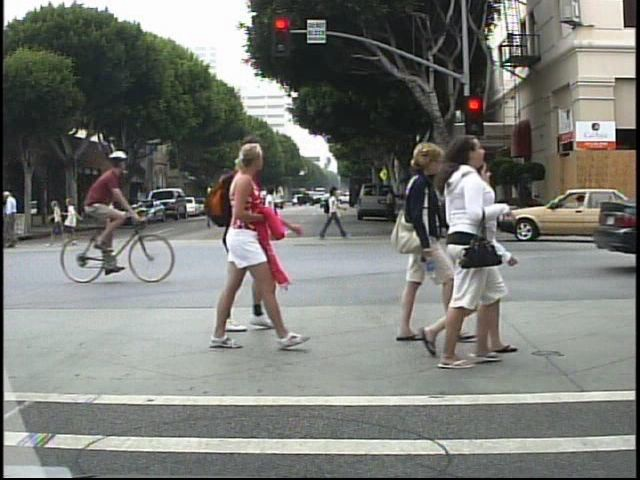person: (427, 136, 523, 376), (183, 141, 289, 349), (430, 159, 521, 361), (390, 138, 443, 349), (219, 146, 273, 342), (71, 147, 135, 276), (315, 183, 349, 245), (421, 177, 450, 239), (6, 187, 25, 252), (383, 187, 398, 223)
